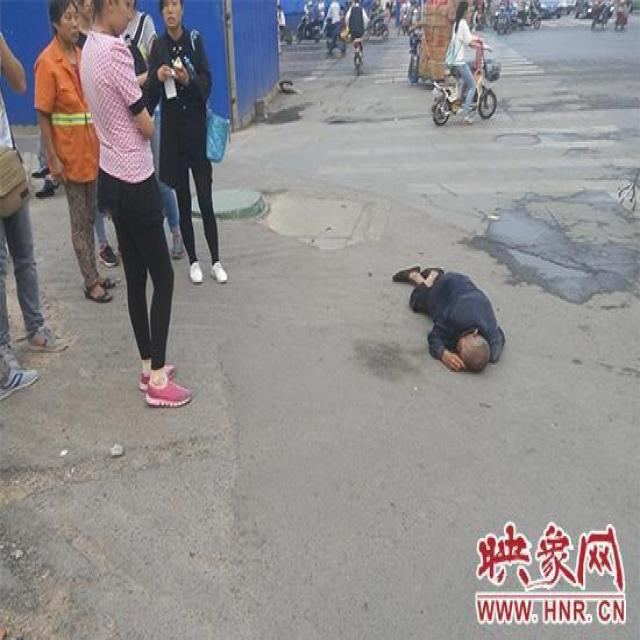fall: (383, 247, 507, 377)
nonfall: (85, 0, 167, 382), (145, 0, 232, 278), (37, 0, 96, 292), (439, 0, 505, 99)
